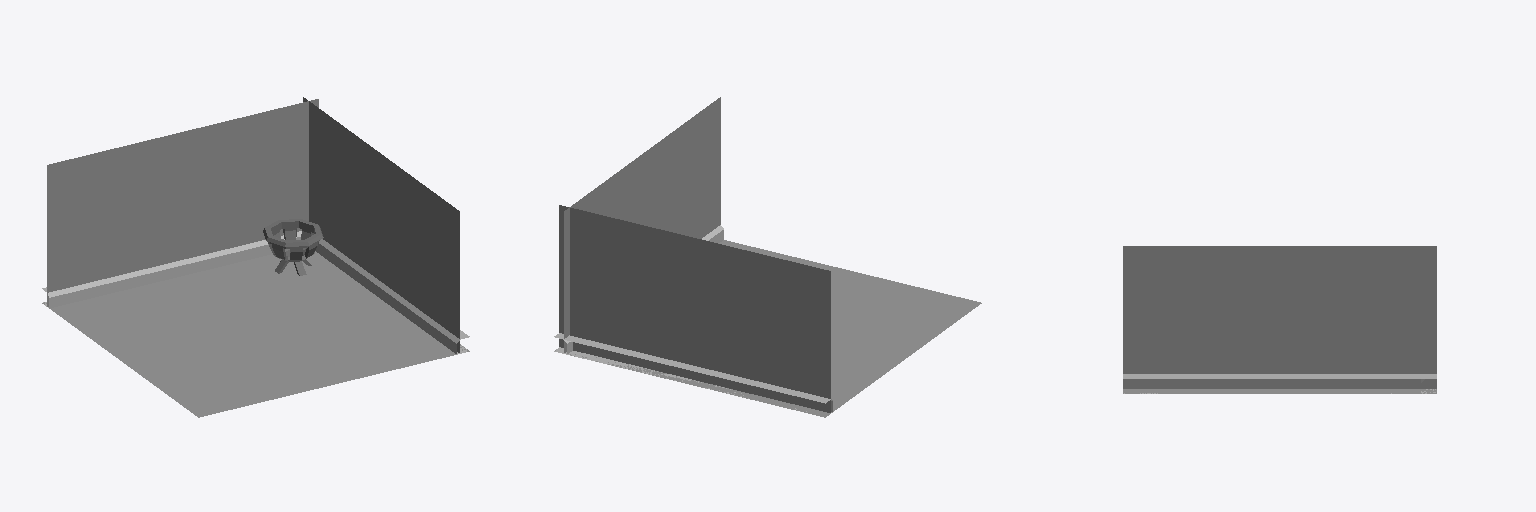
File: bigRoomCornerBot.obj
3 renders of one model, left to right at view 1: azimuth 30°, elevation 25°; view 2: azimuth 150°, elevation 25°; view 3: azimuth 270°, elevation 25°, orthographic.
Visible parts, largest first — view 1: struct_floor_main_half_0, struct_wall_main_half_8, struct_wall_main_half_6, struct_wall_base_half_9, struct_wall_base_half_4, prop_floor_brazier_11; view 2: struct_wall_main_half_8, struct_floor_main_half_0, struct_wall_main_half_6, struct_wall_base_half_9; view 3: struct_wall_main_half_6, struct_wall_base_half_4, struct_floor_main_half_0.
Boxes of the visible parts, box(x1,y1,x2,y2) form: struct_floor_main_half_0: box(42, 251, 469, 417); struct_wall_main_half_8: box(47, 99, 318, 306); struct_wall_main_half_6: box(303, 97, 459, 352); struct_wall_base_half_9: box(42, 231, 301, 308); struct_wall_base_half_4: box(316, 239, 469, 354); prop_floor_brazier_11: box(263, 219, 323, 275); struct_wall_main_half_8: box(559, 205, 830, 412); struct_floor_main_half_0: box(555, 240, 981, 417); struct_wall_main_half_6: box(564, 97, 720, 352); struct_wall_base_half_9: box(554, 335, 832, 411); struct_wall_main_half_6: box(1123, 246, 1436, 388); struct_wall_base_half_4: box(1123, 374, 1436, 393); struct_floor_main_half_0: box(1123, 389, 1436, 393).
Size of the model in its own units: 4 by 2 by 4.